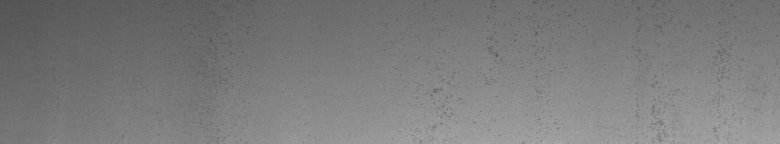ib: (426, 28, 542, 118)
